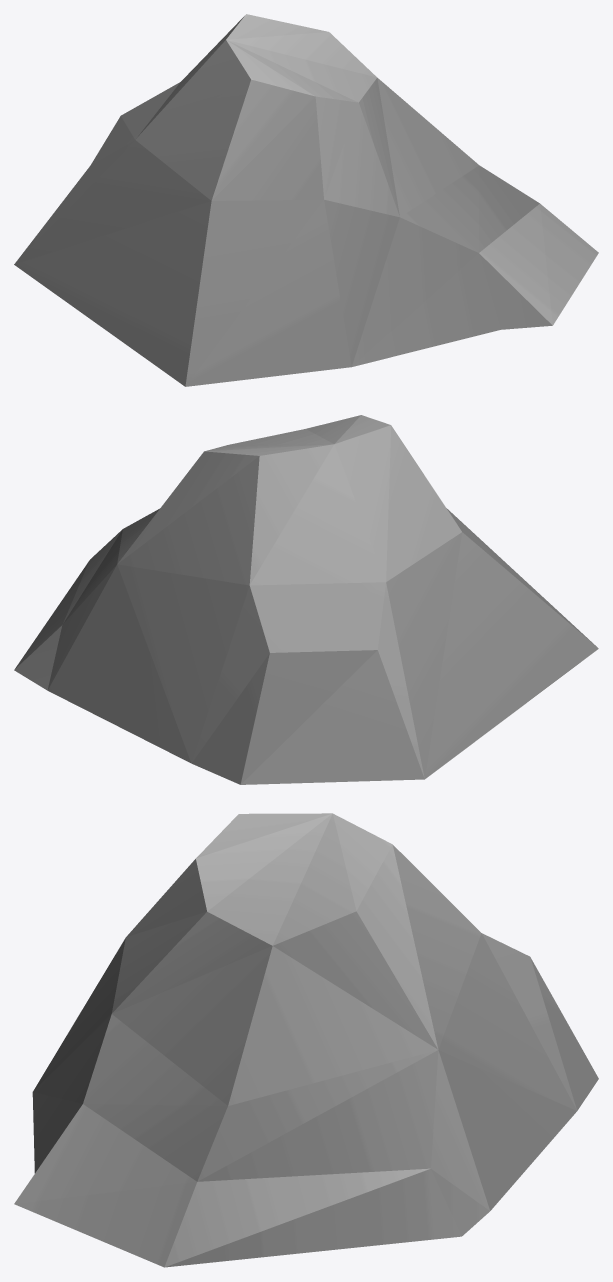
Rendered from GL-Rock-01-LOD2.fbx.
The picture shows the model from 3 angles, top to bottom: view 1: azimuth 30°, elevation 25°; view 2: azimuth 150°, elevation 25°; view 3: azimuth 270°, elevation 25°; orthographic projection. The views are drawn at different scales.
Visible parts, largest first — view 1: GL_Rock_01; view 2: GL_Rock_01; view 3: GL_Rock_01.
Boxes of the visible parts, x1,y1,x2,y2 form: GL_Rock_01: (14, 14, 598, 386); GL_Rock_01: (14, 415, 598, 784); GL_Rock_01: (14, 813, 598, 1267).
Size of the model in its own units: 3.02 by 1.5 by 2.85.
